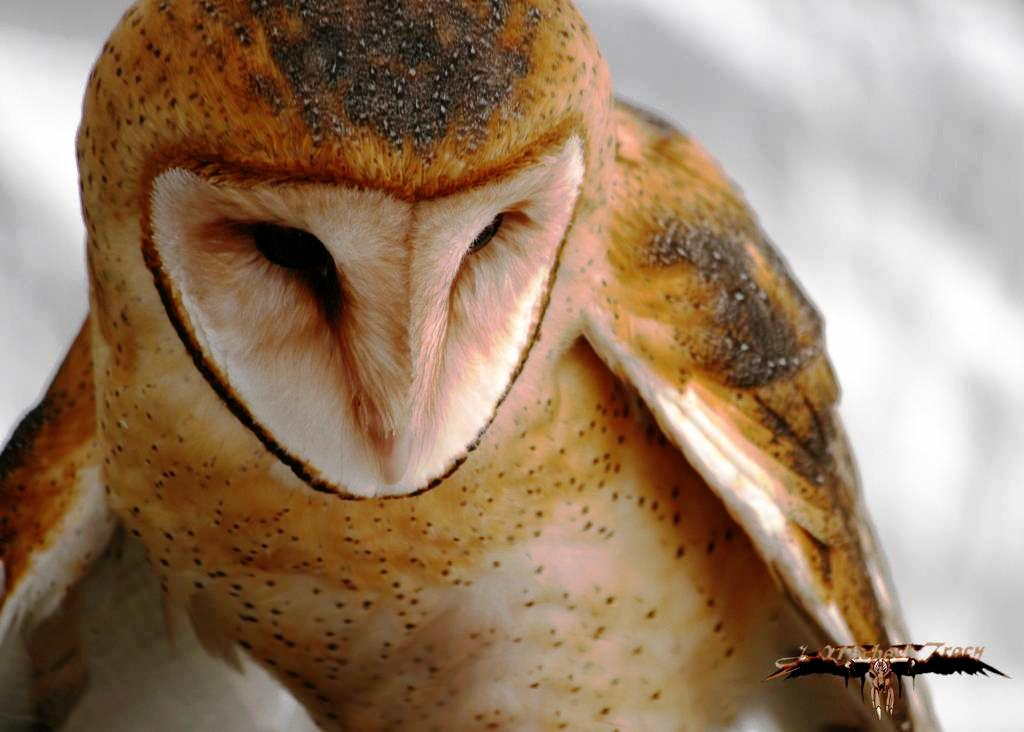Owl: (0, 0, 934, 731)
